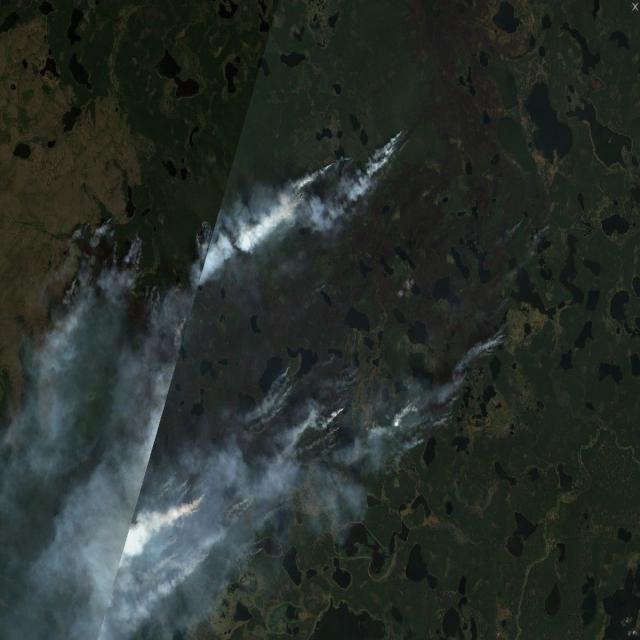fire: (48, 118, 428, 305), (95, 352, 358, 596), (390, 377, 450, 461), (465, 312, 519, 379)
